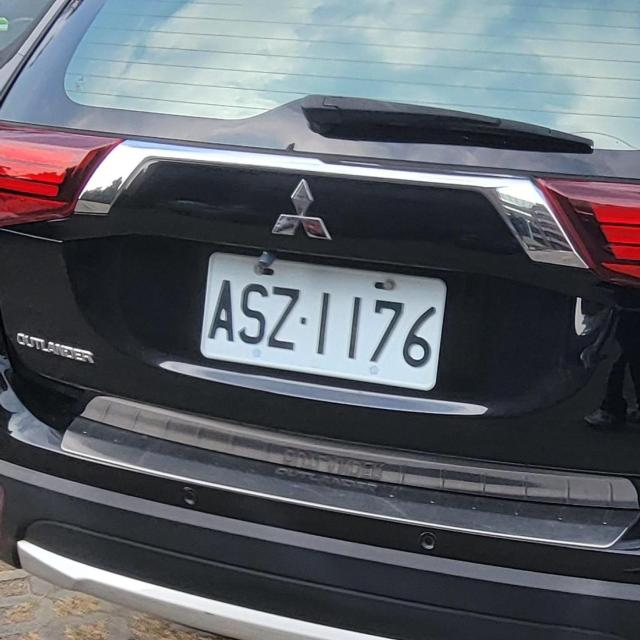W: (192, 242, 453, 390)
